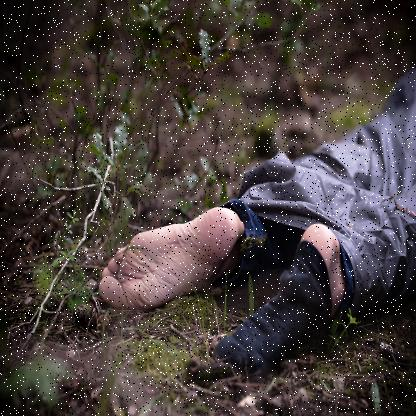leg: (215, 212, 344, 381), (93, 193, 248, 315)
